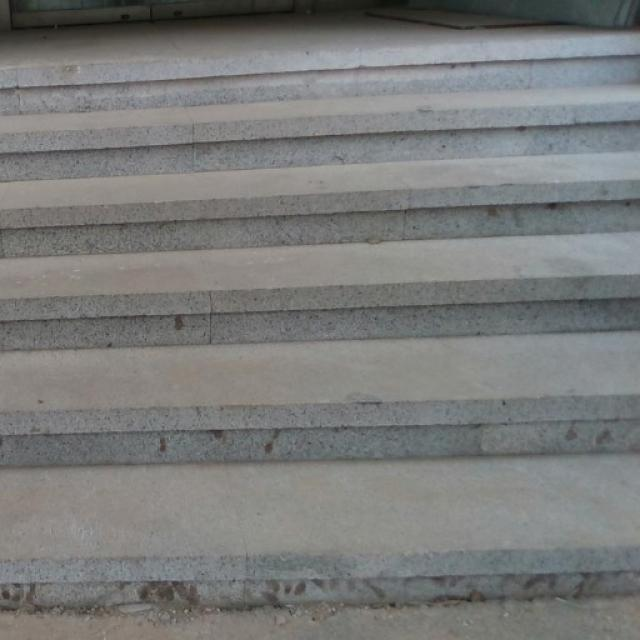Stairs: (0, 16, 639, 616)
